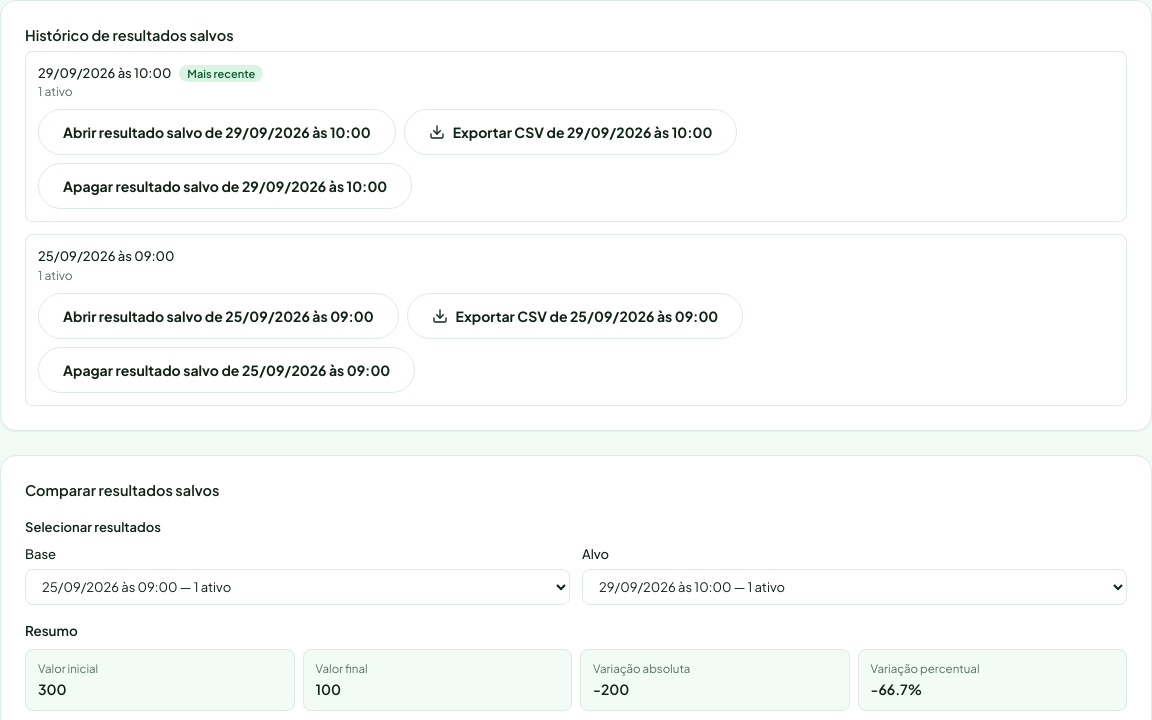
Test: integration across result sources › 11. appears when opening a snapshot from history
Expected: the element "Histórico de resultados salvos" is shown, left=0, top=0, right=1151, bottom=431
Click the button "Abrir resultado salvo de 29/09/2026 às 10:00". click: (217, 132)
box: left=38, top=109, right=396, bottom=155
(page scrolled)
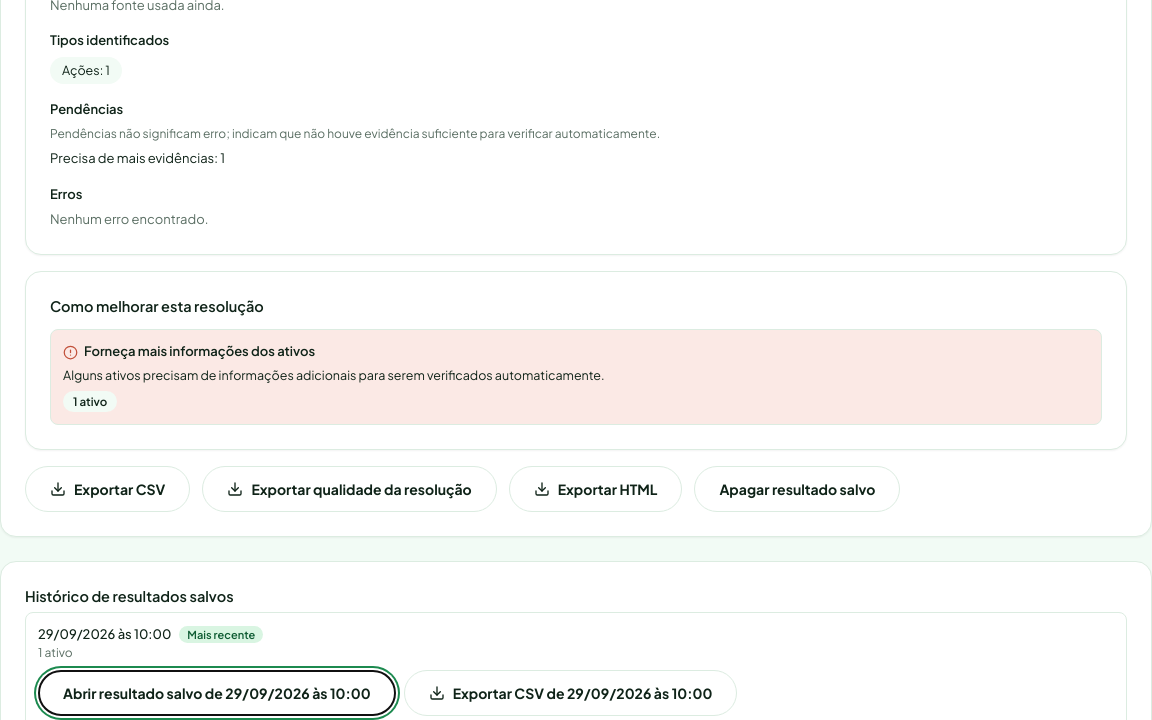
Now the element "Como melhorar esta resolução" is shown, box left=25, top=270, right=1127, bottom=450
